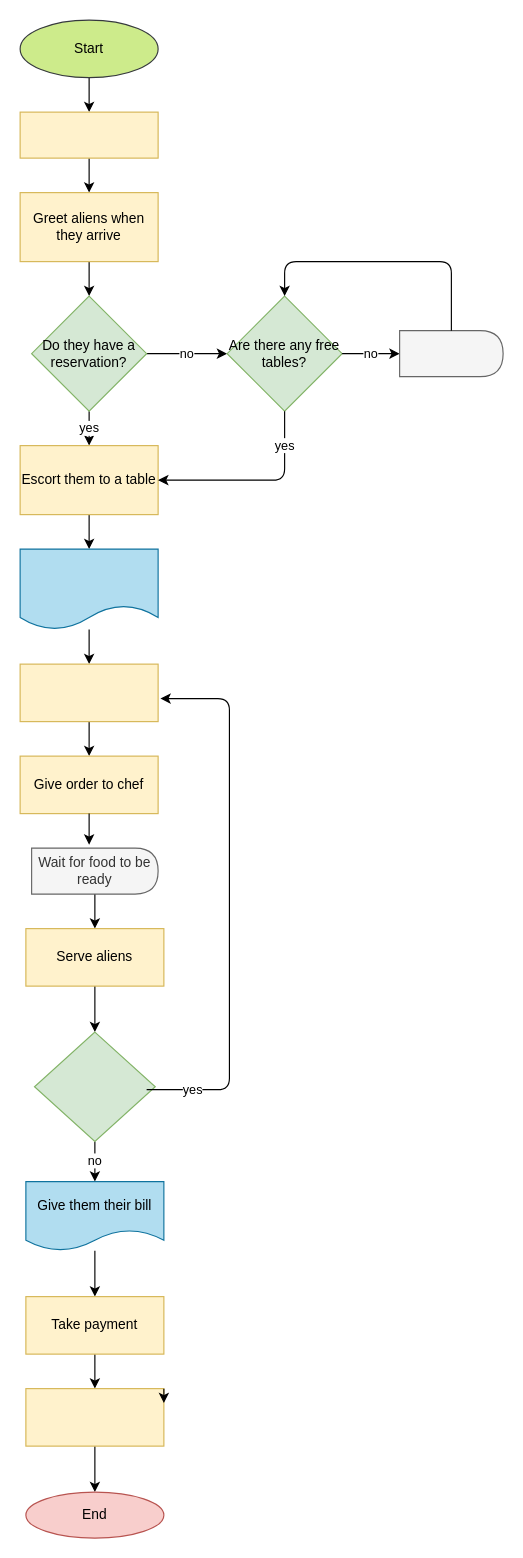
This 523x1558 diagram has some shape labels left out. Here are the shapes that lost their labels. From the top down, the centre of each, then its label:
At [88,134]: "Go to work".
At [450,353]: "Ask them to wait".
At [88,589]: "Give them a menu".
At [88,692]: "Take their order".
At [94,1086]: "Do they have any additional orders?".
At [94,1416]: "Say goodbye".
